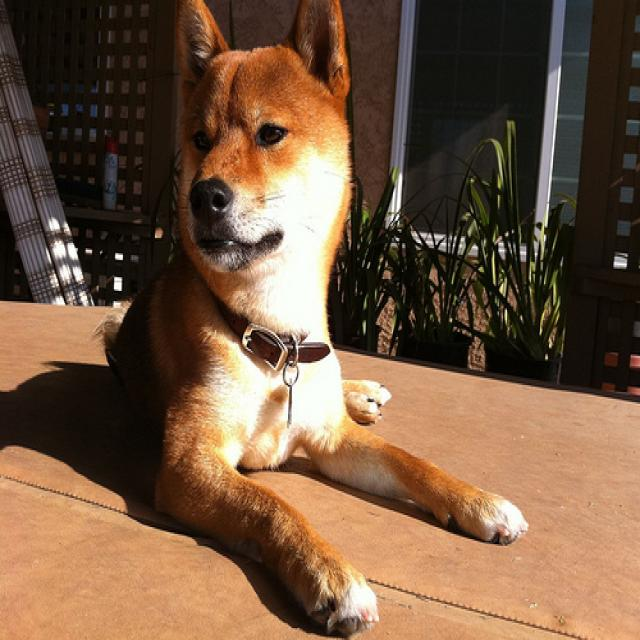dog-shiba_inu: (87, 2, 536, 637)
